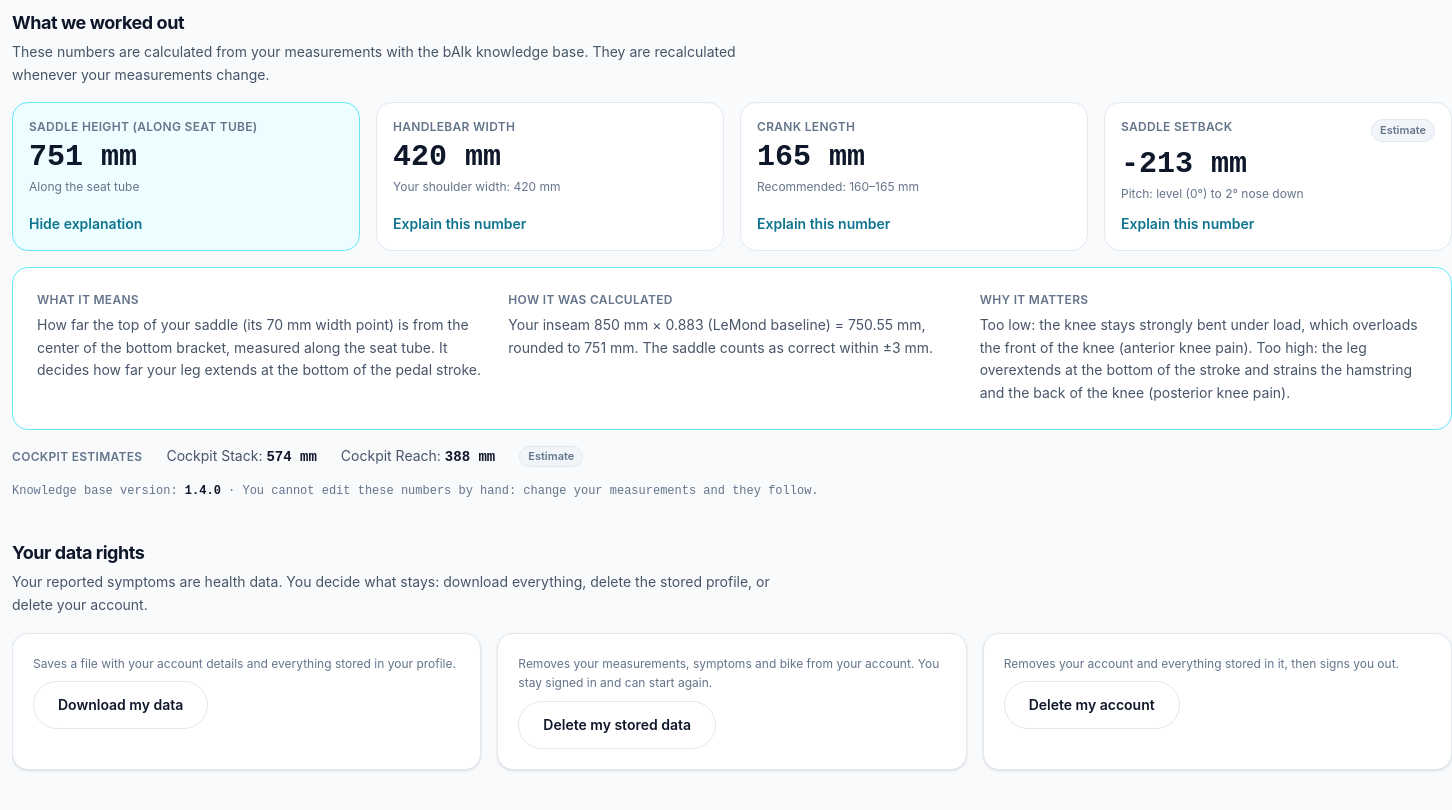
Test case: ProfileView (en) › should tell the rider when the file cannot be created
(page scrolled)
Click the button "Download my data" at (121, 706), box [33, 682, 208, 730]
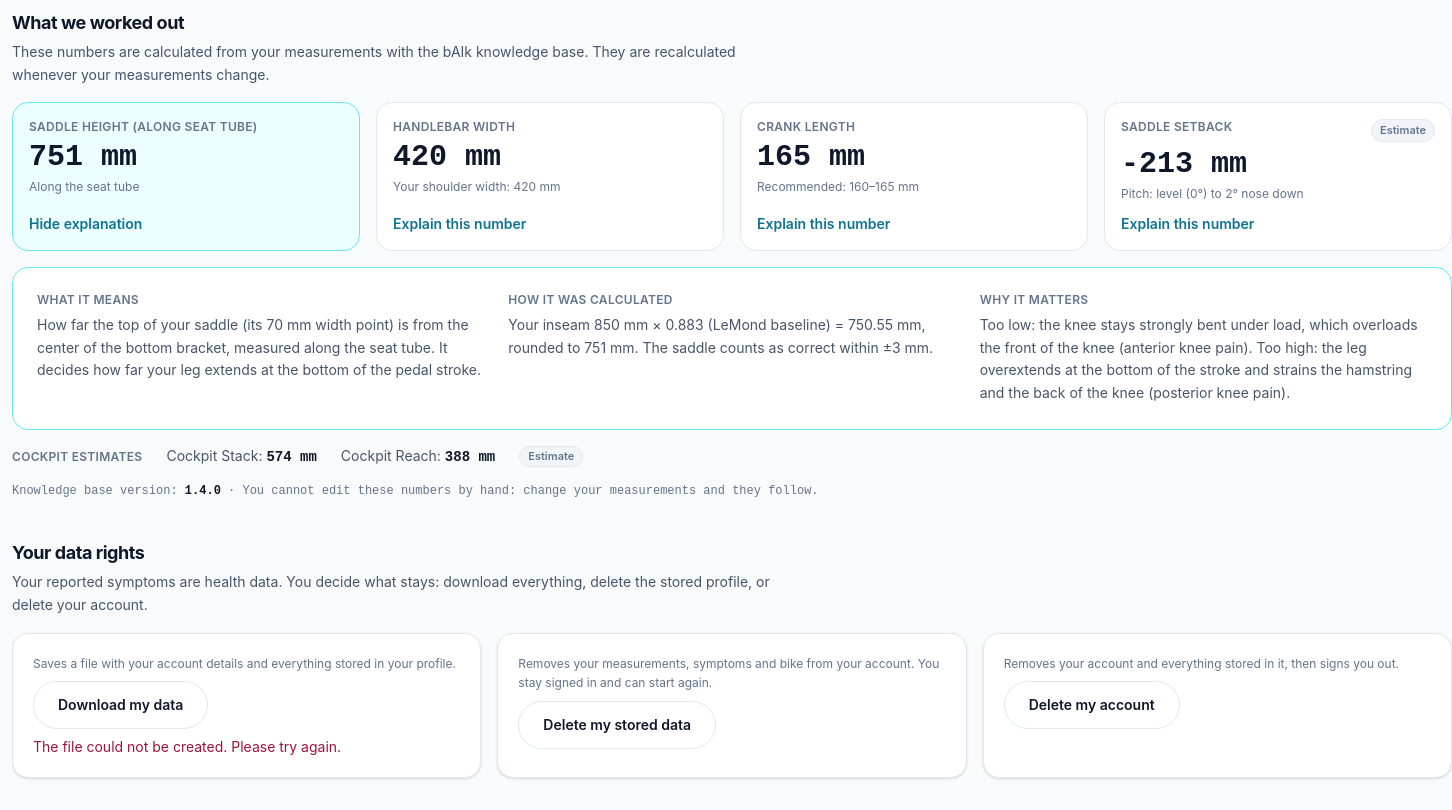
Expected: the message reads "The file could not be created. Please try again.", [33, 738, 341, 756]
